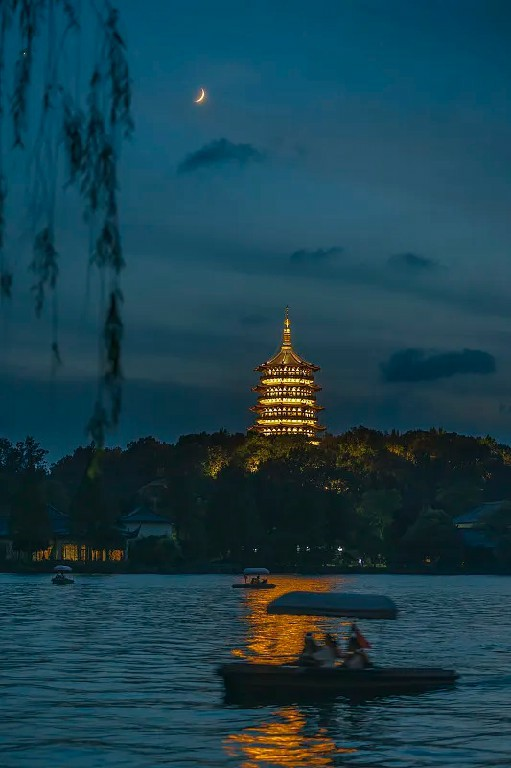Leifeng: (248, 302, 328, 446)
